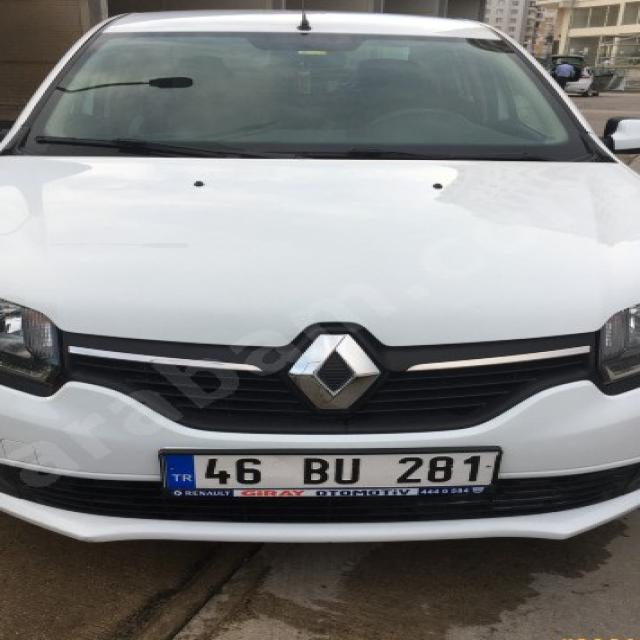license_plate: (162, 450, 500, 491)
